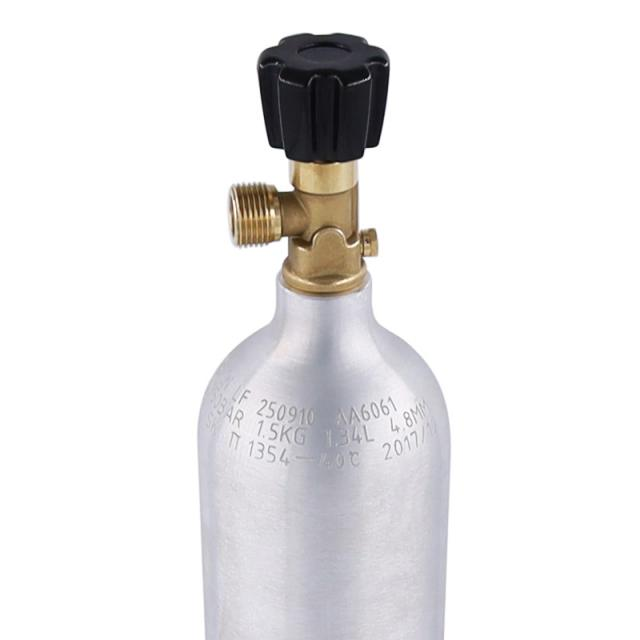ocr: (377, 413, 444, 471), (254, 389, 322, 436), (208, 354, 258, 413), (251, 412, 324, 452), (201, 379, 250, 435), (329, 390, 401, 426), (381, 396, 435, 437), (242, 435, 297, 473), (317, 444, 369, 478), (326, 420, 377, 449), (226, 426, 244, 459), (293, 451, 316, 467)
